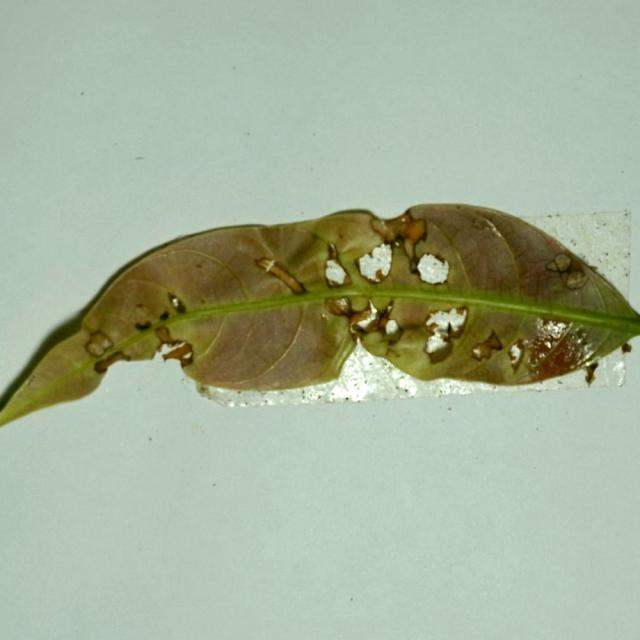Anthracnose: (353, 241, 396, 286), (254, 257, 304, 295), (424, 306, 467, 344), (545, 253, 586, 291), (471, 331, 505, 365), (415, 253, 449, 285), (349, 302, 379, 333), (94, 349, 133, 372), (84, 330, 114, 356), (325, 264, 346, 286), (166, 292, 185, 314), (385, 319, 400, 336)
Mango: (0, 204, 639, 431)
